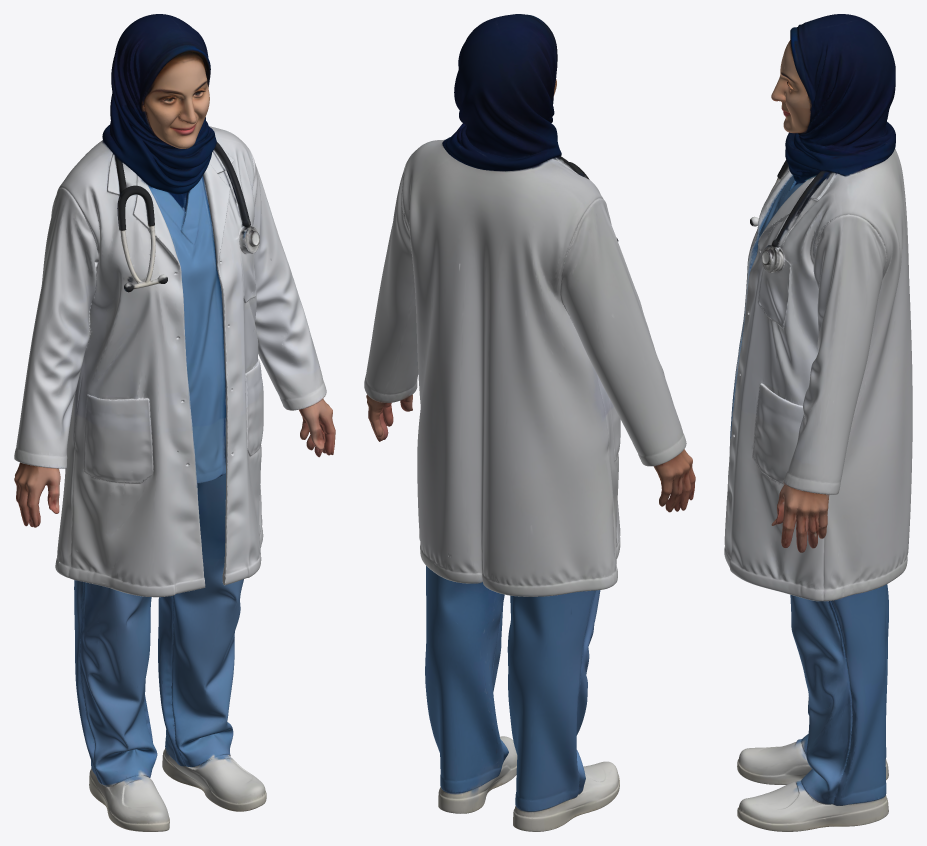
Rendered from dentist.glb.
3 renders of one model, left to right at view 1: azimuth 30°, elevation 25°; view 2: azimuth 150°, elevation 25°; view 3: azimuth 270°, elevation 25°, orthographic. The views are drawn at different scales.
Visible parts, largest first — view 1: node_0; view 2: node_0; view 3: node_0.
Part boxes in pixels (x1=…): node_0: x1=14, y1=14, x2=335, y2=831; node_0: x1=364, y1=14, x2=695, y2=831; node_0: x1=724, y1=14, x2=912, y2=831.
Bounding box in the file's own units: 0.4994 × 1.18 × 0.2573.
Materials: 1 (1 with a texture image).
